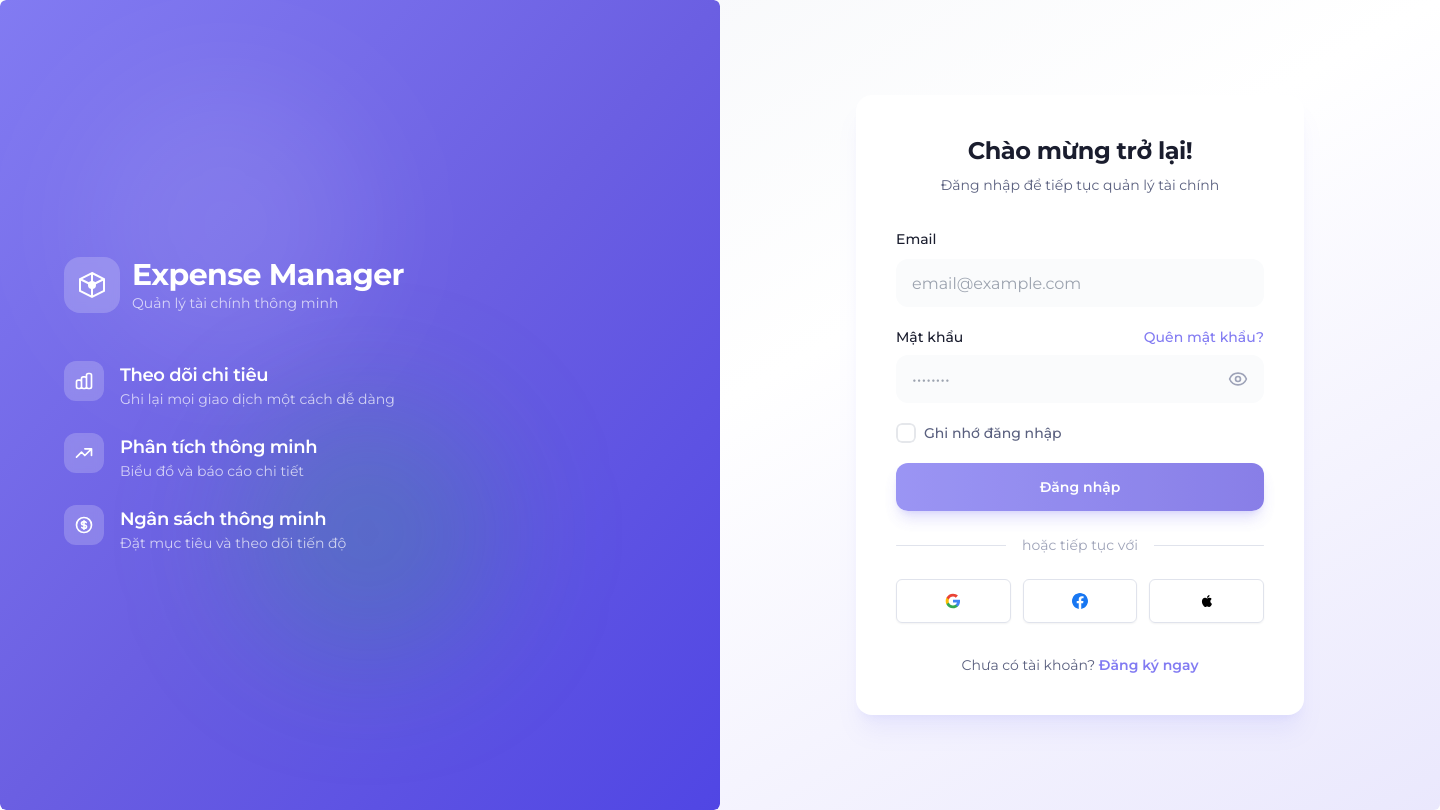
Test: LoginPage › Validation với react-hook-form + zod › phải hiển thị lỗi khi password rỗng
The width and height of the screenshot is (1440, 810).
Type "test@example.com" into the field labelled "Email" at (1080, 283), box [896,259,1264,307]
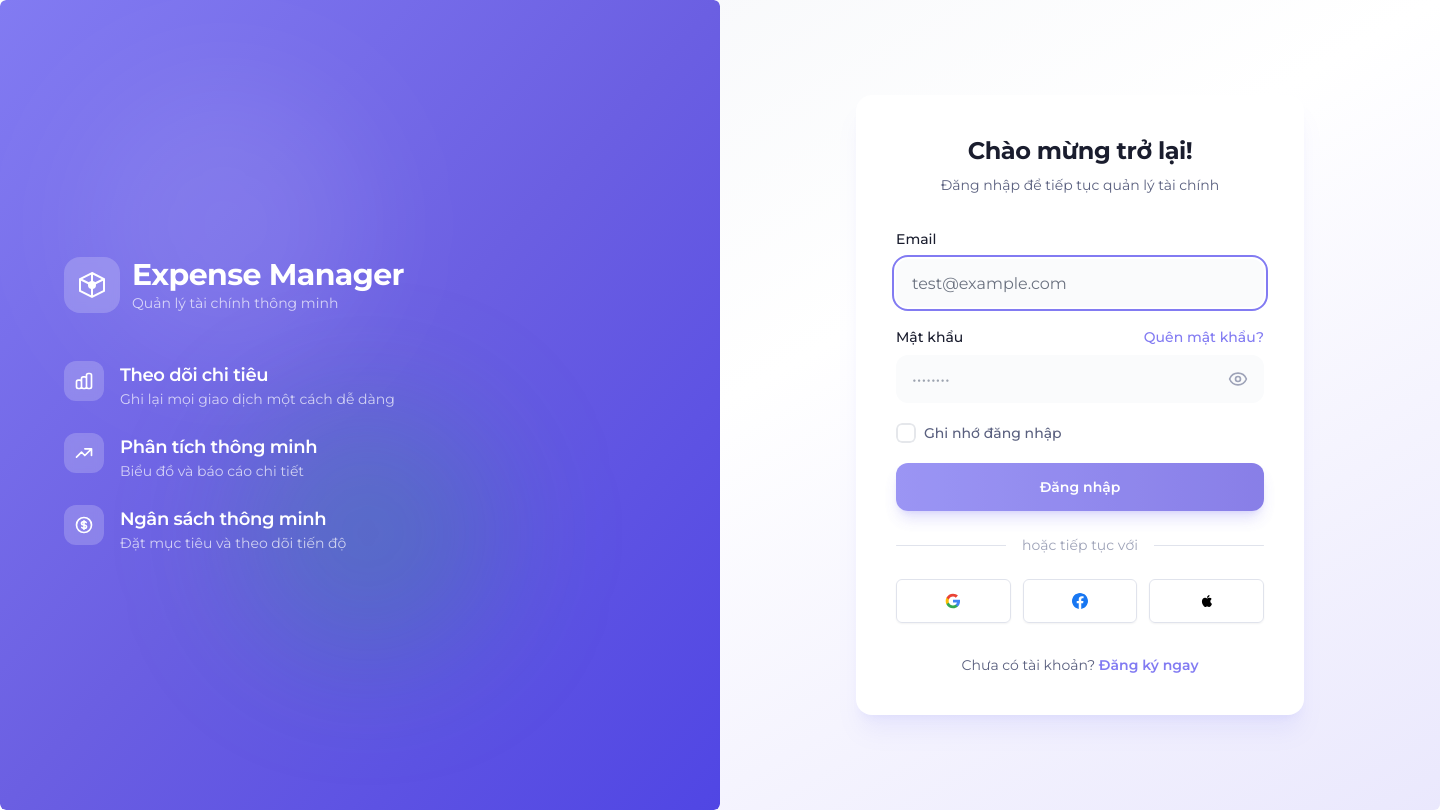
Click the button "Đăng nhập" at (1080, 487), box [896,463,1264,511]
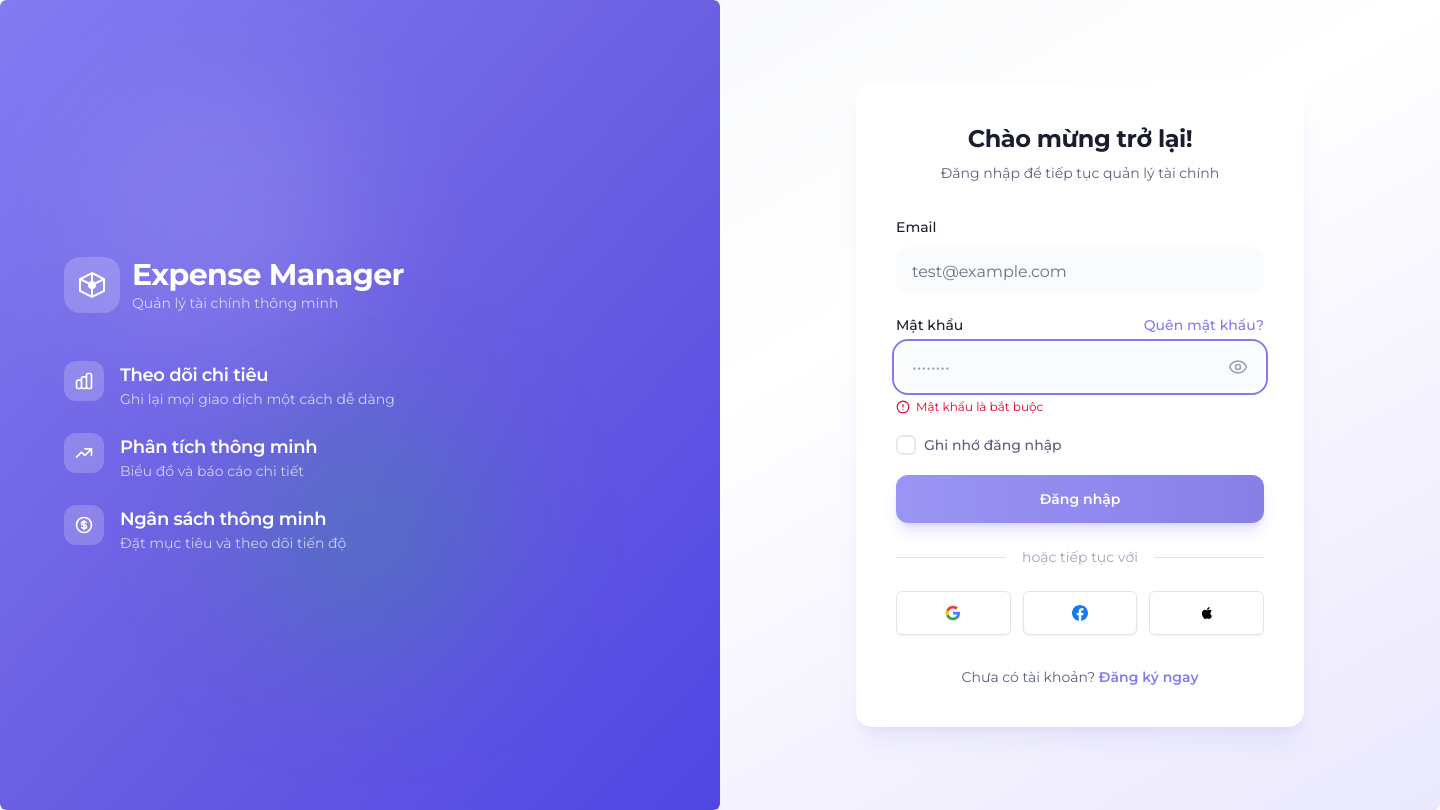
Expected: the text "Mật khẩu là bắt buộc" is shown, [916,399,1043,415]
